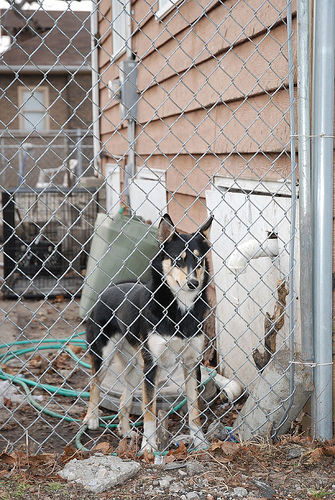dog: (78, 211, 218, 463)
